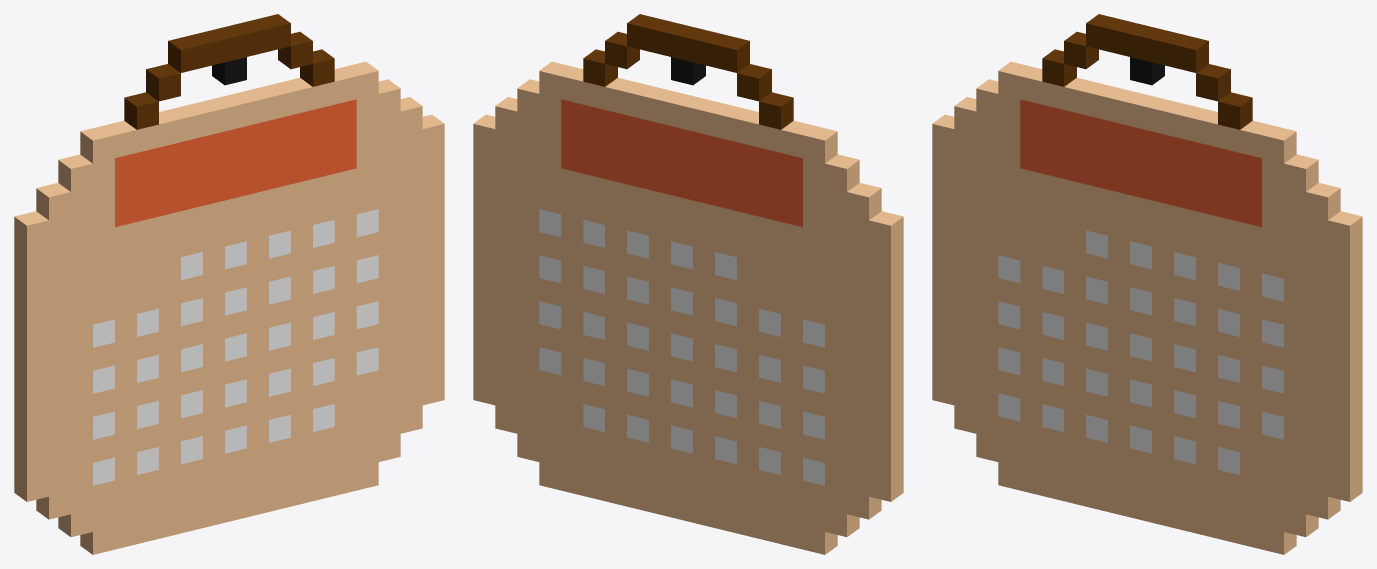
Rendered from calendar.obj.
3 views of the same model, side by side, from view 1: azimuth 30°, elevation 25°; view 2: azimuth 150°, elevation 25°; view 3: azimuth 330°, elevation 25° (orthographic).
Bounding box in the file's own units: 1.9 × 2.1 × 0.1.
Materials: 1 (1 with a texture image).
